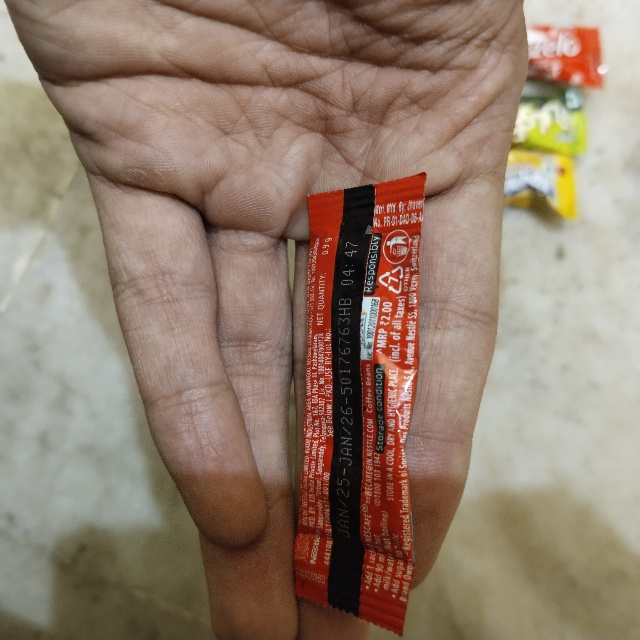Nescafe Coffee: (292, 172, 428, 605)
